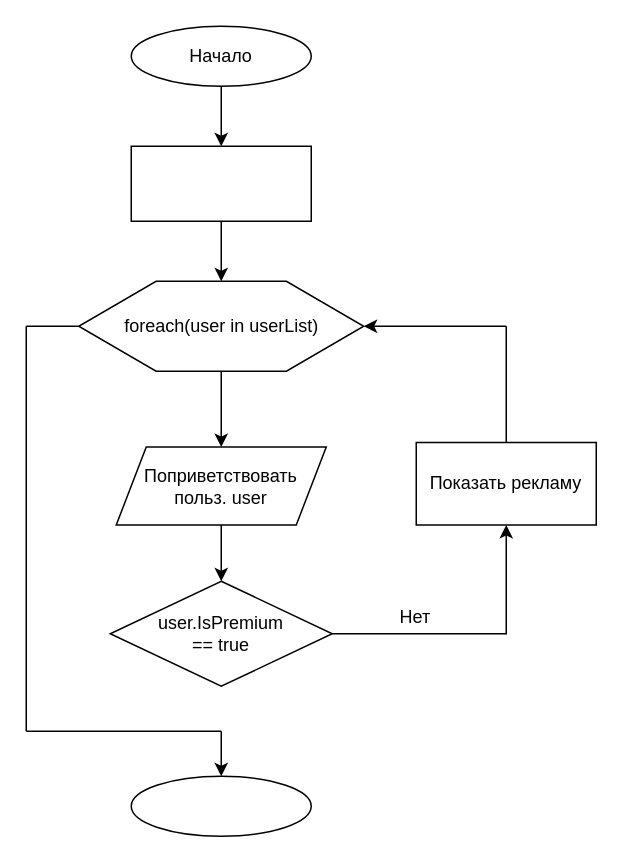
The diagram is 623 pixels wide and 863 high, and some of its shapes have lost their labels. The shapes that lost their labels are listed below. From the top down, each one's centre as x and y in pixels, then its label:
At (220,183): "Создать коллекцию userList".
At (220,805): "Конец".
